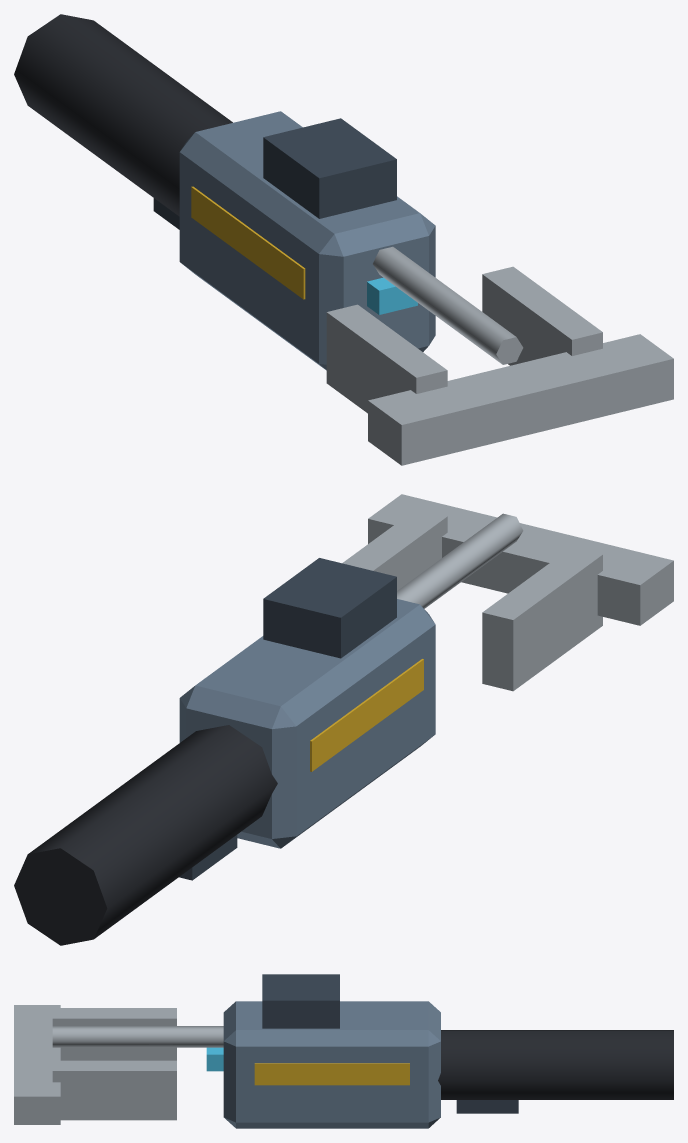
The picture shows the model from 3 angles, top to bottom: view 1: azimuth 30°, elevation 25°; view 2: azimuth 150°, elevation 25°; view 3: azimuth 270°, elevation 25°; orthographic projection. The views are drawn at different scales.
Visible parts, largest first — view 1: dweller_tool_multitool; view 2: dweller_tool_multitool; view 3: dweller_tool_multitool.
Part boxes in pixels (box(x1,y1,x2,y2)): dweller_tool_multitool: box(14, 14, 673, 465); dweller_tool_multitool: box(14, 494, 673, 945); dweller_tool_multitool: box(14, 974, 673, 1128).
Size of the model in its own units: 0.14 by 0.09 by 0.425.
